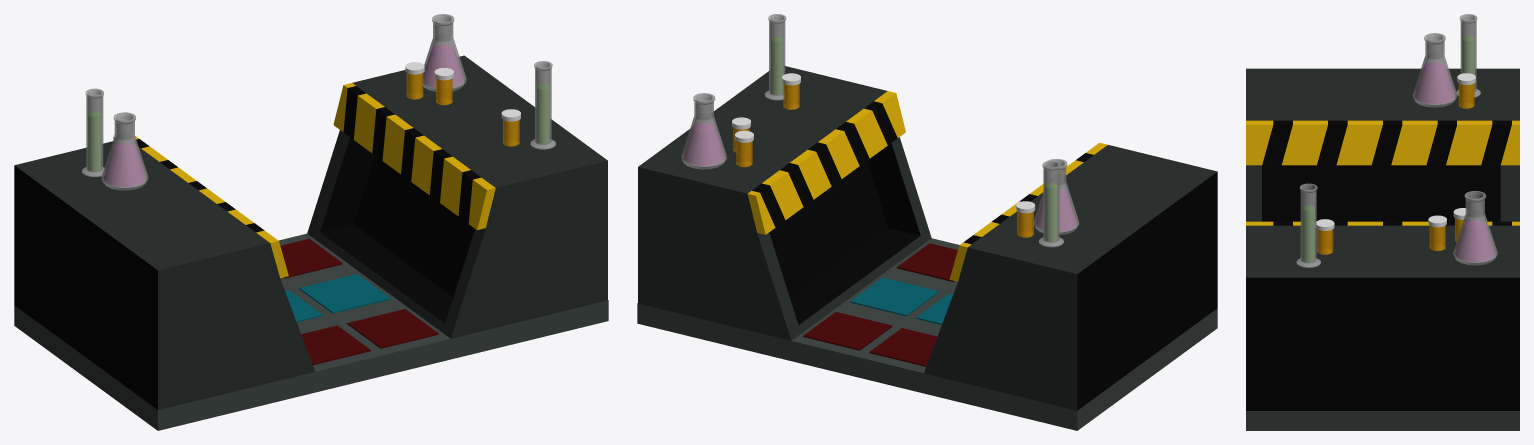
The model's file is LevelSlice_LabRat_1.fbx.
3 views of the same model, side by side, from view 1: azimuth 30°, elevation 25°; view 2: azimuth 150°, elevation 25°; view 3: azimuth 270°, elevation 25° (orthographic). The views are drawn at different scales.
Visible parts, largest first — view 1: pCylinder26; view 2: pCylinder26; view 3: pCylinder26.
Boxes of the visible parts, <box> form: pCylinder26: <box>14,14,608,430</box>; pCylinder26: <box>637,14,1217,430</box>; pCylinder26: <box>1246,14,1519,430</box>.
Size of the model in its own units: 186 by 94.49 by 103.
